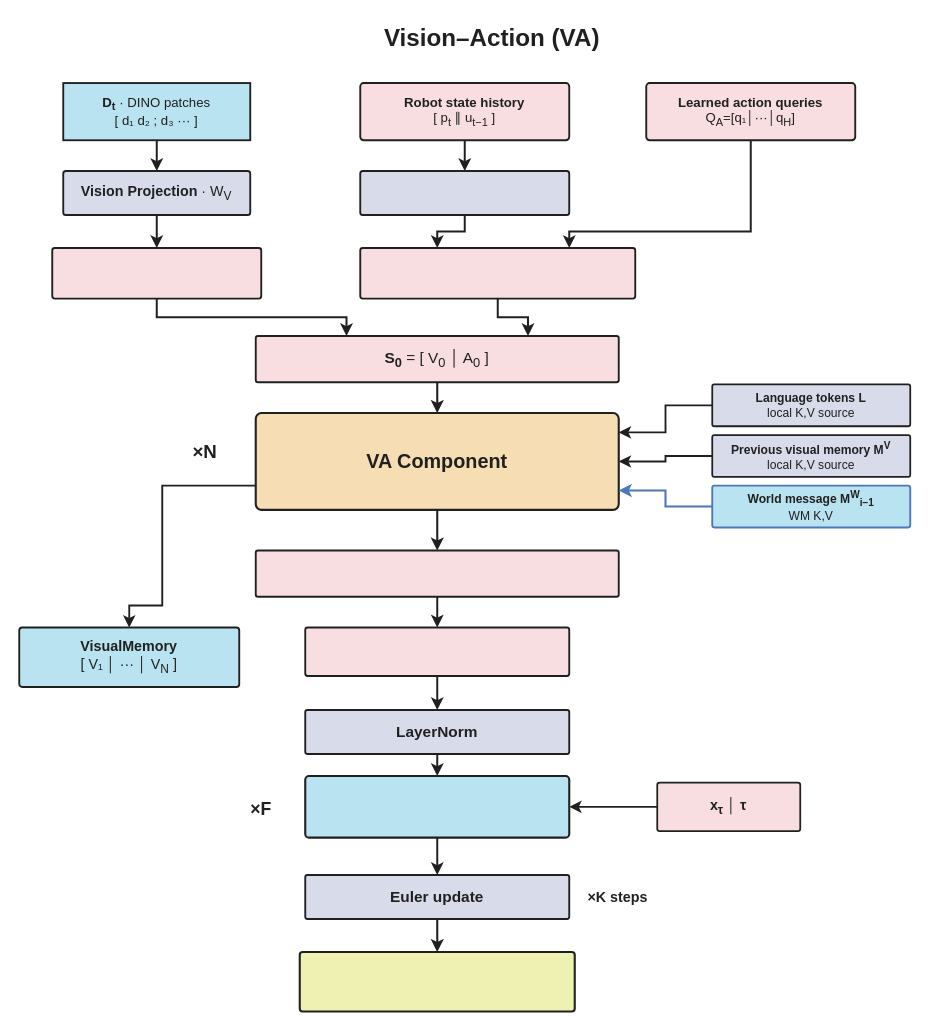
This 931x1031 diagram has some shape labels left out. The centre of each missing label's shape, as x and y in pixels:
"A 0 = Q A + W s [p t ∥u t−1 ] [ a₁ │ a₂ │ ··· │ a H ]" goes at (x=497, y=273).
"A N" goes at (x=437, y=651).
"Action chunk â 1:H" goes at (x=436, y=981).
"Flow Matching Head" goes at (x=437, y=806).
"S N = [ V N │ A N ]" goes at (x=436, y=573).
"State Projection · W s" goes at (x=464, y=192).
"V 0 = [ v₁ │ v₂ │ ··· │ v N ]" goes at (x=156, y=273).
